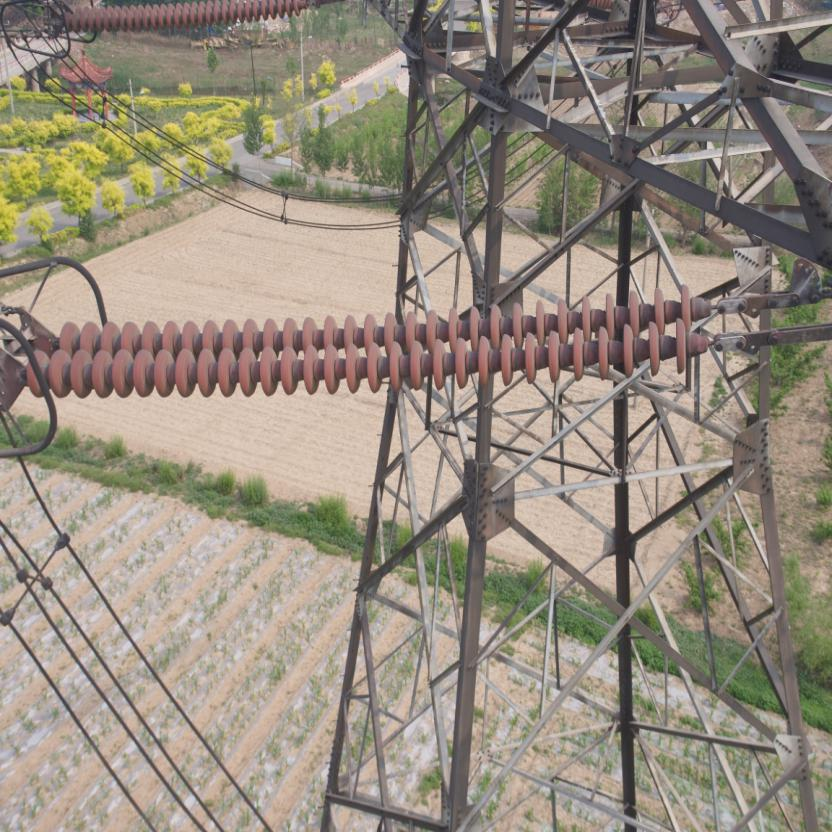insulator: (16, 278, 758, 399), (45, 0, 323, 34)
